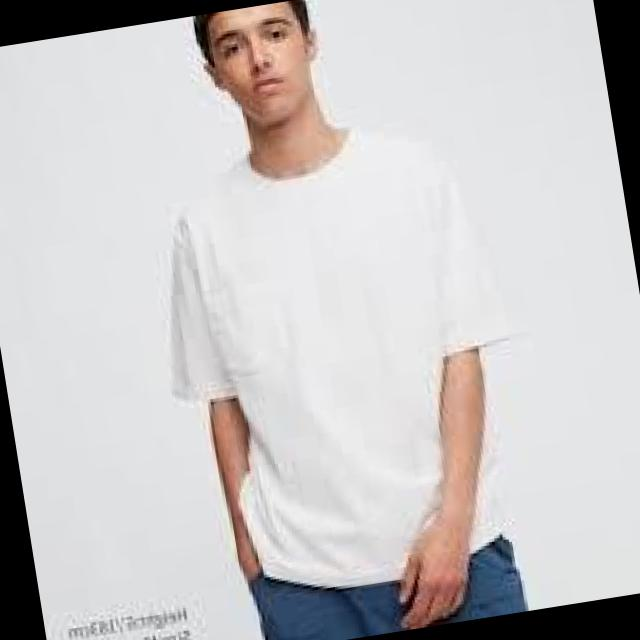Tshirt: (122, 102, 557, 620)
